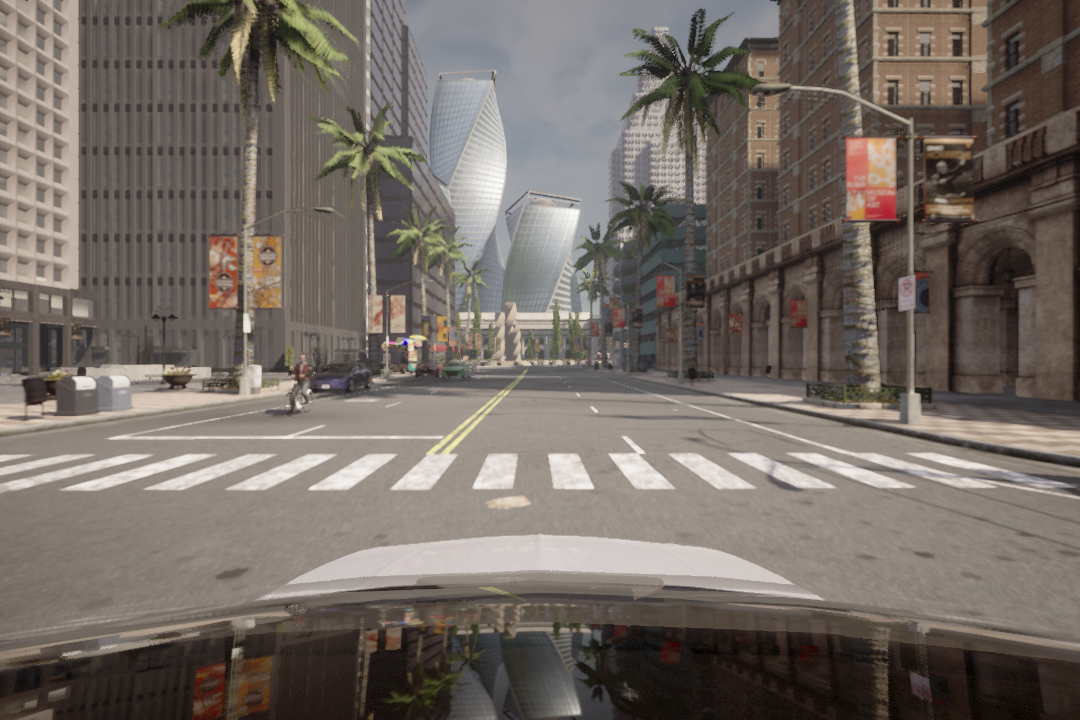TrafficSign_nstop: (895, 274, 920, 313)
walkside: (4, 449, 1074, 506)
